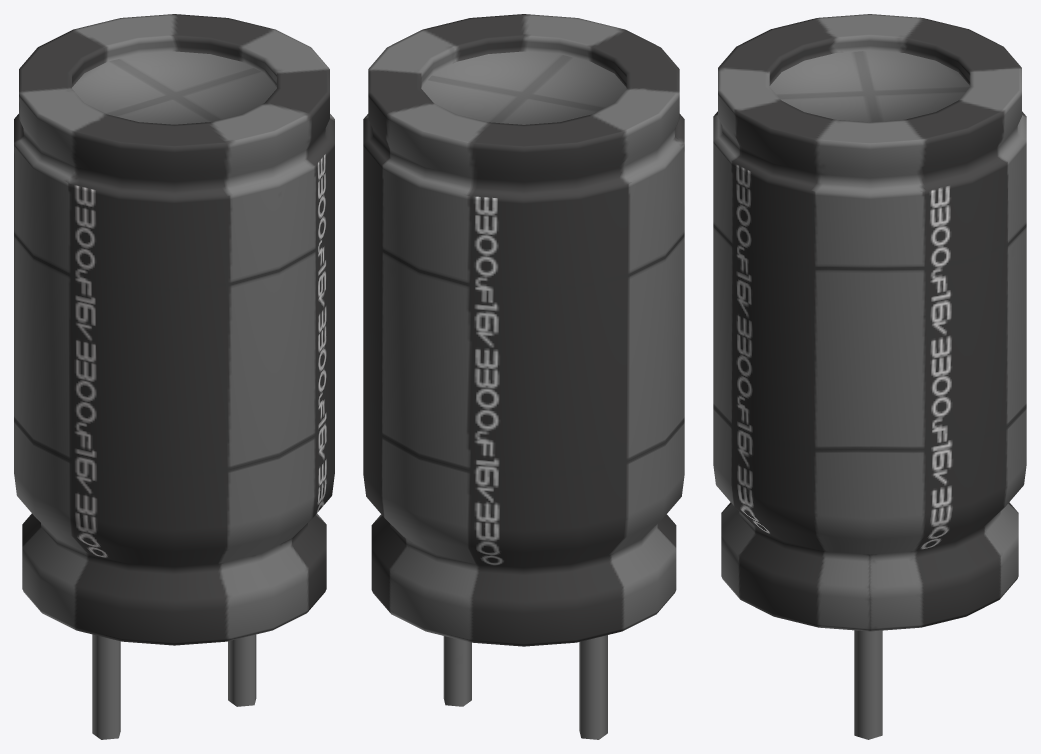
Rendered from CAPACITOR 1.FBX.
The picture shows the model from 3 angles, left to right: view 1: azimuth 30°, elevation 25°; view 2: azimuth 150°, elevation 25°; view 3: azimuth 270°, elevation 25°; orthographic projection. The views are drawn at different scales.
Parts seen in each view (by area): view 1: CAPACITOR; view 2: CAPACITOR; view 3: CAPACITOR.
Boxes of the visible parts, x1,y1,x2,y2 form: CAPACITOR: (14,14,334,739); CAPACITOR: (363,14,684,739); CAPACITOR: (713,14,1026,739).
Size of the model in its own units: 44.92 by 96.8 by 44.24.
